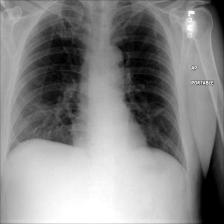normal: (3, 0, 190, 174)
